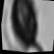not correct: (2, 0, 54, 54)
